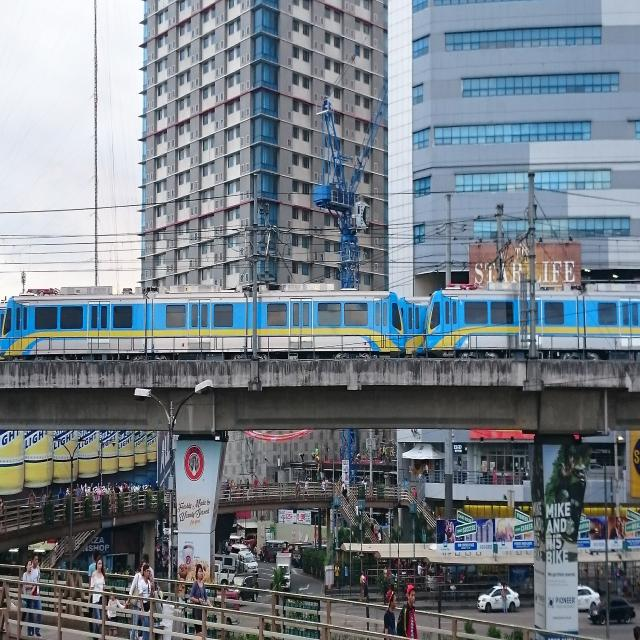body: (382, 444, 532, 502), (0, 476, 154, 525), (334, 556, 483, 597), (224, 474, 380, 502), (554, 441, 588, 548), (342, 505, 428, 545), (297, 444, 381, 474), (125, 559, 147, 640), (189, 563, 213, 637), (86, 554, 106, 640), (585, 562, 637, 590), (27, 552, 42, 638), (590, 513, 629, 546), (20, 558, 36, 638), (223, 532, 268, 560), (396, 583, 418, 640), (139, 563, 153, 640), (88, 548, 100, 634), (107, 586, 126, 637), (383, 588, 398, 640), (440, 517, 460, 552), (496, 577, 512, 619), (155, 546, 178, 573), (151, 583, 159, 640), (144, 550, 154, 585), (52, 538, 61, 562)
